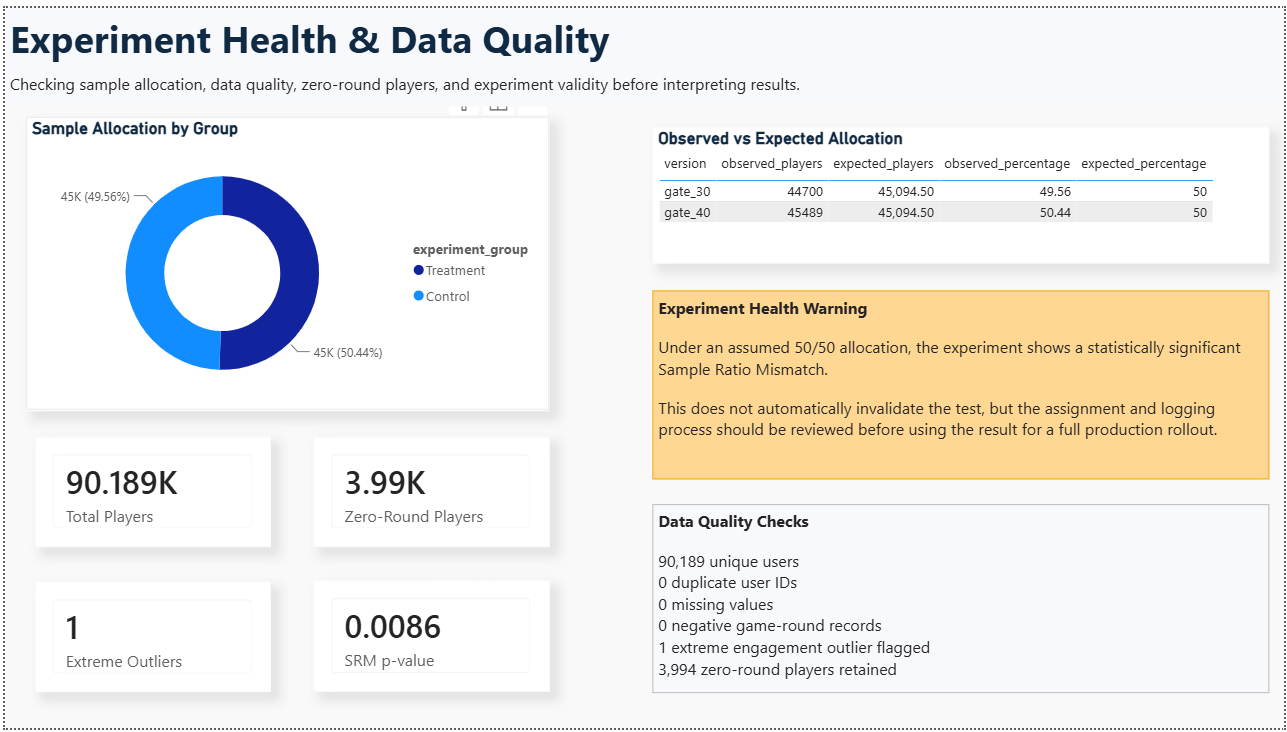

What the dashboard file says about the page in this screenshot:
{"tool":"powerbi","page":{"name":"Experiment Health","canvas":[1280,720],"ordinal":1},"visuals":[{"type":"donutChart","title":"Sample Allocation by Group","fields":{"Category":["Experiment Summary.experiment_group"],"Y":["Sum(Experiment Summary.total_players)"]},"box":[21.4,108.6,522.9,294.3],"z":0},{"type":"tableEx","title":"Observed vs Expected Allocation","fields":{"Values":["Sample Allocation.version","Sample Allocation.observed_players","Sample Allocation.expected_players","Sample Allocation.observed_percentage","Sample Allocation.expected_percentage"]},"box":[647.1,118.6,617.1,137.1],"z":1000},{"type":"cardVisual","fields":{"Data":["Engagement Statistics.SRM p-value"]},"box":[308.6,572.9,235.7,111.4],"z":2000},{"type":"cardVisual","fields":{"Data":["Sum(Experiment Summary.extreme_outliers)"]},"box":[30,574.3,235.7,110],"z":3000},{"type":"cardVisual","fields":{"Data":["Player Detail.Zero-Round Players"]},"box":[308.6,428.6,235.7,110],"z":4000},{"type":"cardVisual","fields":{"Data":["Player Detail.Total Players"]},"box":[30,428.6,235.7,110],"z":5000},{"type":"textbox","box":[647.1,495.7,617.1,188.6],"z":6000},{"type":"textbox","box":[647.1,282.9,617.1,188.6],"z":7000},{"type":"textbox","box":[0,0,1280,60],"z":8000},{"type":"textbox","box":[0,60,1280,38.6],"z":9000}]}

Visuals, with their boxes in screenshot pixels (x1, y1, x2, y2), scaled from the page's 1280x720 canvas onto the 1287x732 screenshot:
"Sample Allocation by Group" donutChart: crop(22, 110, 547, 410)
"Observed vs Expected Allocation" tableEx: crop(651, 121, 1271, 260)
cardVisual - Engagement Statistics.SRM p-value: crop(310, 582, 547, 696)
cardVisual - Sum(Experiment Summary.extreme_outliers): crop(30, 584, 267, 696)
cardVisual - Player Detail.Zero-Round Players: crop(310, 436, 547, 548)
cardVisual - Player Detail.Total Players: crop(30, 436, 267, 548)
textbox: crop(651, 504, 1271, 696)
textbox: crop(651, 288, 1271, 479)
textbox: crop(0, 0, 1286, 61)
textbox: crop(0, 61, 1286, 100)
